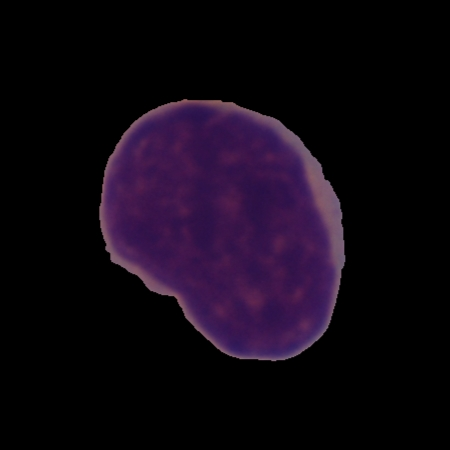ALL: (96, 95, 350, 364)
